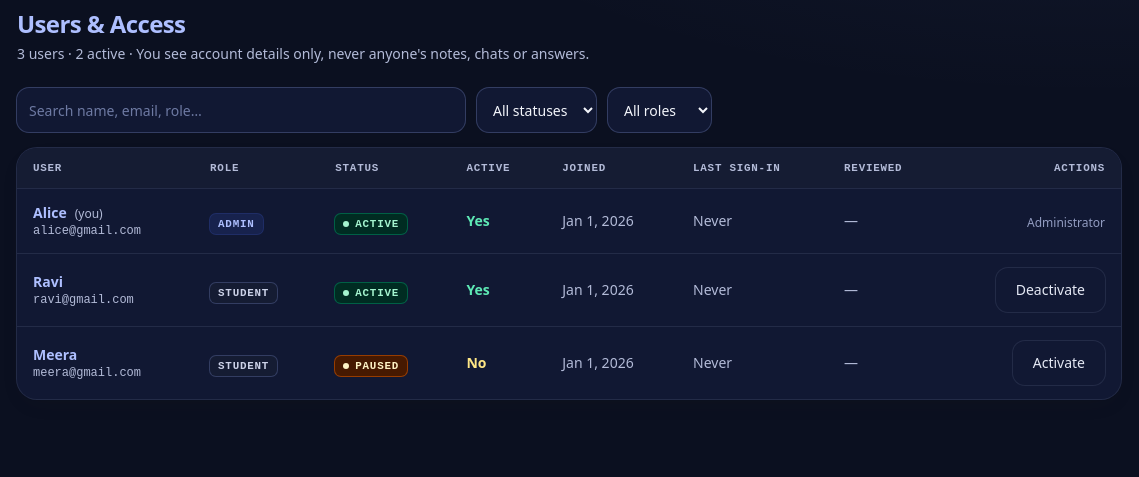
Test: Users & Access screen › deactivating takes two steps (deactivate, then confirm), sends only the status, and updates the row
Expected: the table named "Accounts" is shown, [17,148,1121,399]
Click the button with aria-label "Deactivate Ravi": (1050, 290) [996,268,1105,312]
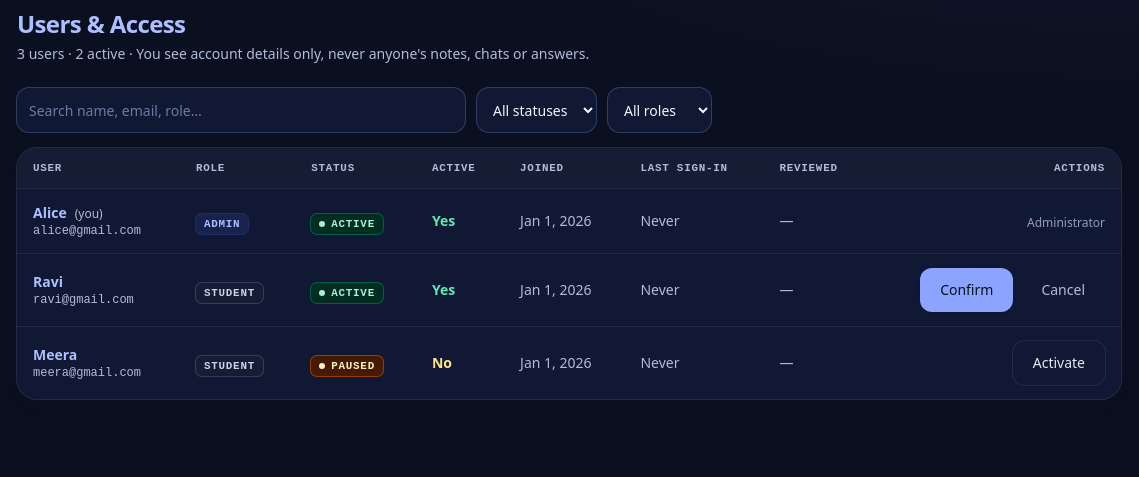
Click the button with aria-label "Confirm deactivating Ravi": (967, 290) [920,268,1013,312]
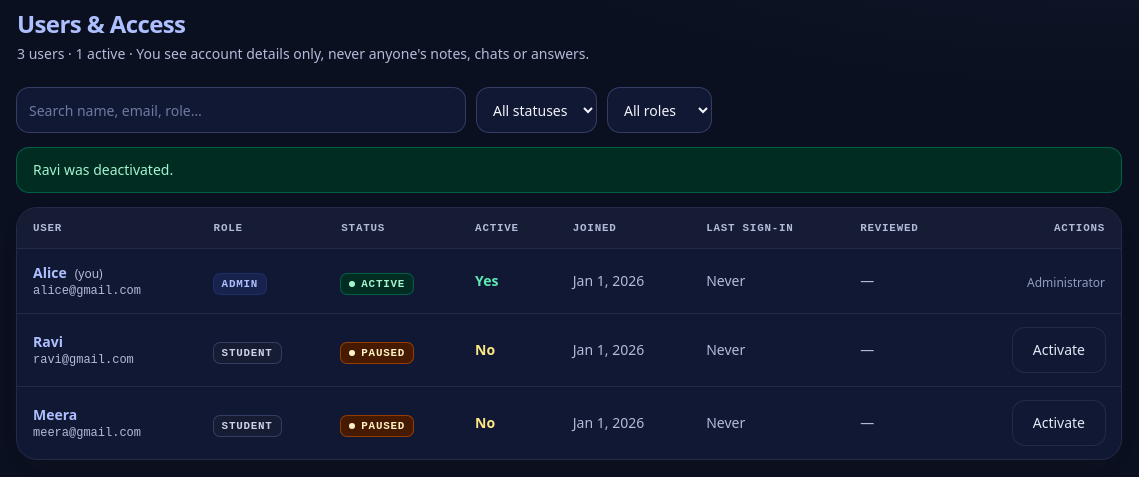
Result: the text "Ravi was deactivated." is shown at [17,148,1121,192]
Result: the button with aria-label "Activate Ravi" is shown at [1013,328,1105,372]
